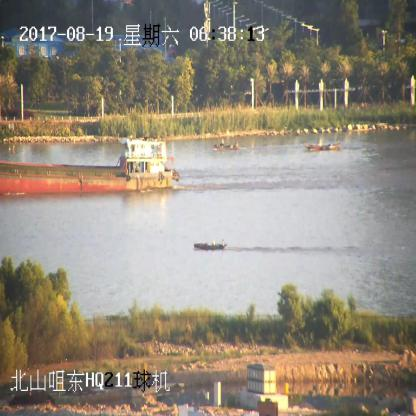Bulk Carrier: (0, 136, 177, 193)
